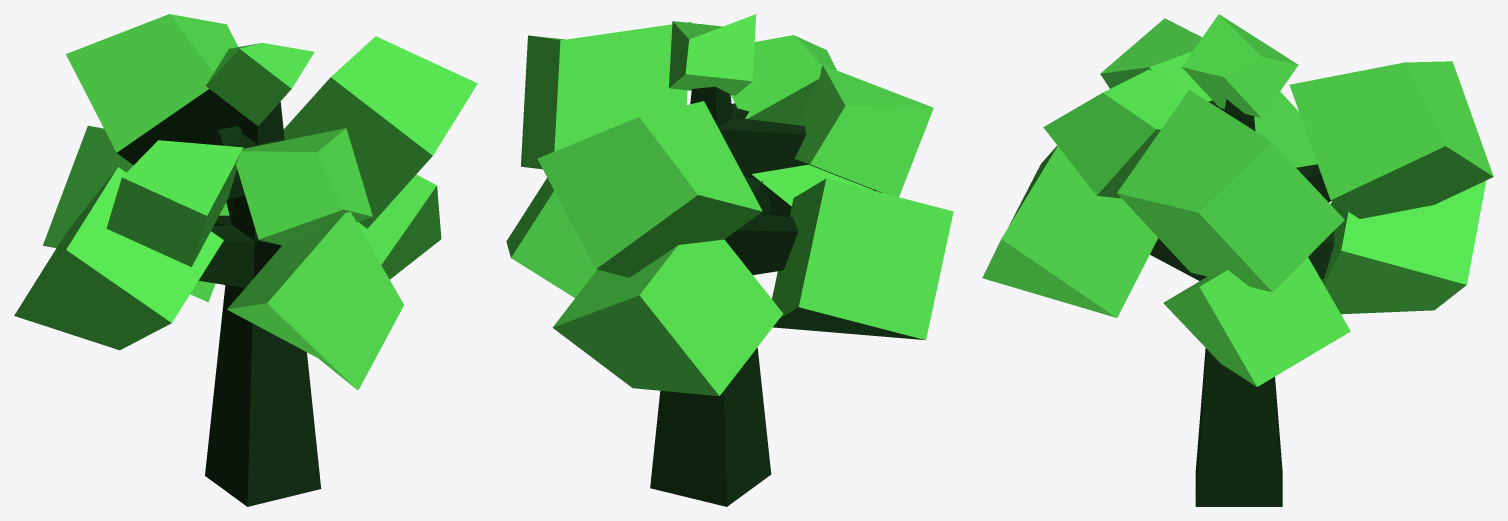
The model's file is Plant 1.fbx.
3 renders of one model, left to right at view 1: azimuth 30°, elevation 25°; view 2: azimuth 150°, elevation 25°; view 3: azimuth 270°, elevation 25°, orthographic. The views are drawn at different scales.
Parts seen in each view (by area): view 1: Cube.008; view 2: Cube.008; view 3: Cube.008.
Boxes of the visible parts, left/top/right/bottom form: Cube.008: left=14, top=14, right=477, bottom=506; Cube.008: left=506, top=14, right=953, bottom=506; Cube.008: left=982, top=14, right=1493, bottom=506.
Bounding box in the file's own units: 146 × 149 × 151.
